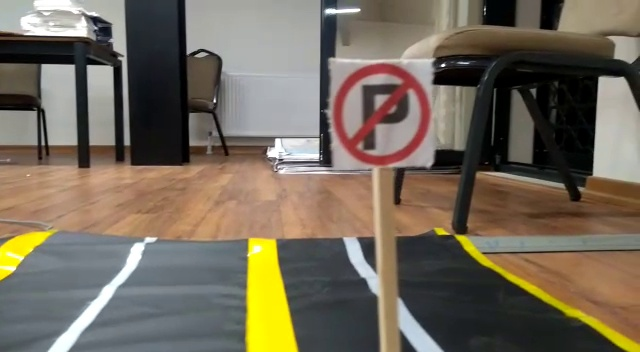park_yapilmaz: (326, 57, 432, 165)
